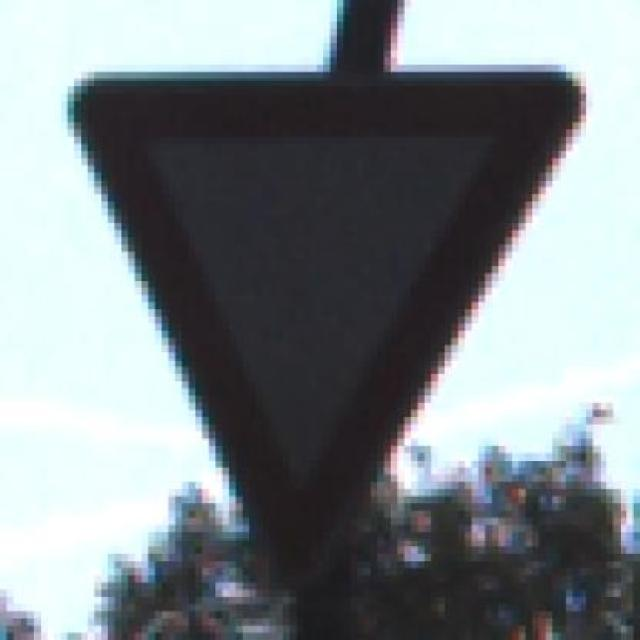Give Way: (74, 50, 586, 582)
